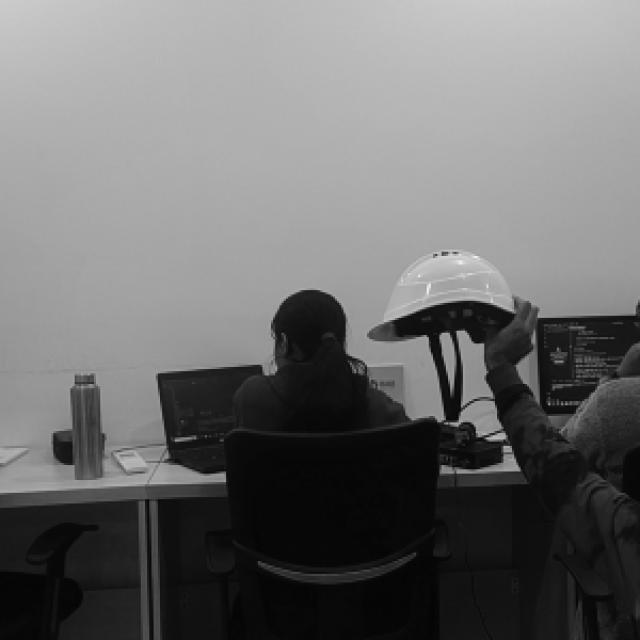safety_helmet: (368, 249, 515, 338)
